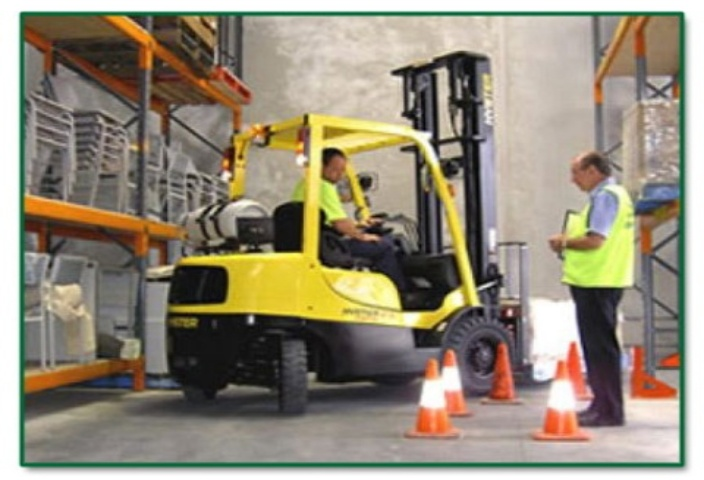industrial: (150, 44, 555, 405)
